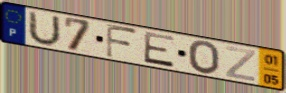7: (63, 16, 94, 54)
E: (142, 30, 176, 69)
F: (105, 23, 140, 61)
O: (187, 39, 222, 76)
U: (27, 9, 63, 48)
Z: (225, 45, 258, 83)
